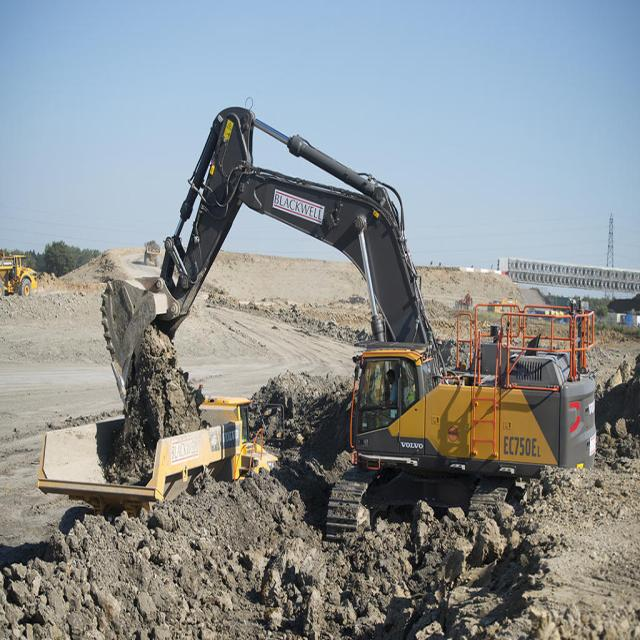dump_truck: (26, 380, 296, 560)
excavator: (92, 100, 598, 547)
